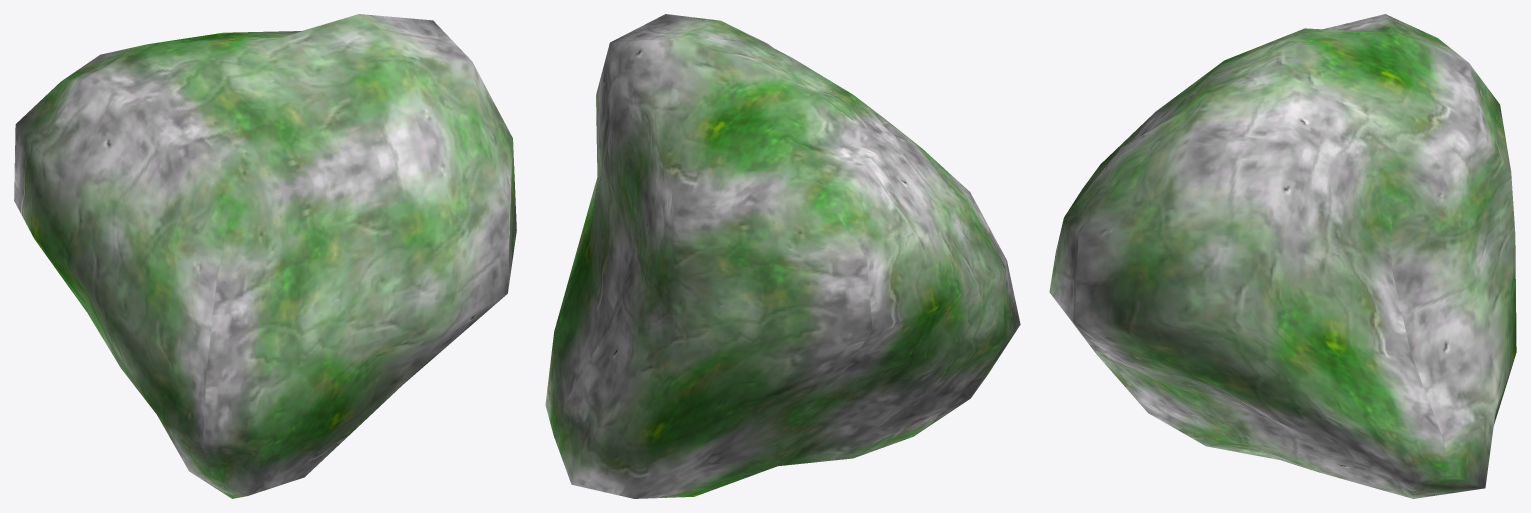
File: INST_HTOWN_ROCKD.fbx
3 views of the same model, side by side, from view 1: azimuth 30°, elevation 25°; view 2: azimuth 150°, elevation 25°; view 3: azimuth 270°, elevation 25° (orthographic). The views are drawn at different scales.
Parts seen in each view (by area): view 1: INST_HTOWN_ROCKD; view 2: INST_HTOWN_ROCKD; view 3: INST_HTOWN_ROCKD.
Boxes of the visible parts, x1,y1,x2,y2 form: INST_HTOWN_ROCKD: (14,14,516,498); INST_HTOWN_ROCKD: (545,14,1020,498); INST_HTOWN_ROCKD: (1049,14,1516,498).
Bounding box in the file's own units: 20134 × 20134 × 20134.
Materials: 1 (1 with a texture image).
